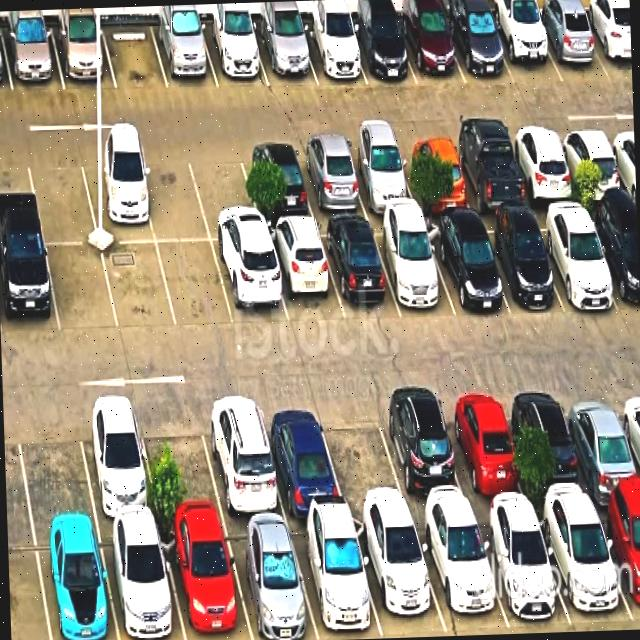empty: (316, 396, 409, 513), (136, 401, 224, 522), (13, 402, 96, 527), (186, 145, 263, 241), (136, 149, 210, 242), (25, 151, 98, 243), (102, 242, 176, 331), (157, 242, 233, 328), (46, 245, 118, 333), (101, 22, 168, 88)
occupied: (534, 504, 634, 631), (374, 391, 472, 514), (473, 510, 571, 629), (412, 512, 509, 632), (288, 517, 382, 640), (222, 521, 318, 640), (351, 517, 447, 635), (438, 388, 529, 510), (198, 394, 286, 519), (159, 522, 252, 640), (257, 398, 345, 516), (74, 401, 159, 523), (508, 386, 593, 508), (98, 523, 185, 640), (33, 525, 117, 640), (559, 385, 640, 503), (531, 209, 620, 309), (423, 219, 510, 316), (475, 217, 562, 313), (264, 223, 344, 325), (370, 221, 455, 316), (318, 221, 400, 319), (79, 151, 155, 243), (212, 241, 288, 325), (449, 135, 528, 212), (239, 143, 315, 222), (585, 208, 640, 313), (594, 500, 640, 624), (293, 142, 368, 218), (396, 137, 473, 211), (0, 241, 59, 336), (343, 140, 418, 214), (531, 12, 610, 82), (506, 130, 579, 205), (487, 12, 562, 85), (555, 128, 627, 201), (443, 12, 514, 83), (396, 12, 465, 85), (346, 17, 416, 84), (199, 22, 268, 87), (151, 22, 218, 88), (50, 24, 116, 90), (297, 22, 366, 84), (1, 25, 64, 91), (252, 23, 316, 85), (580, 10, 632, 80)
